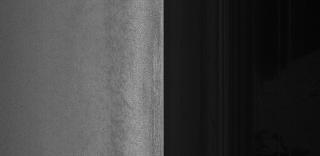silk spot: (108, 61, 134, 103)
